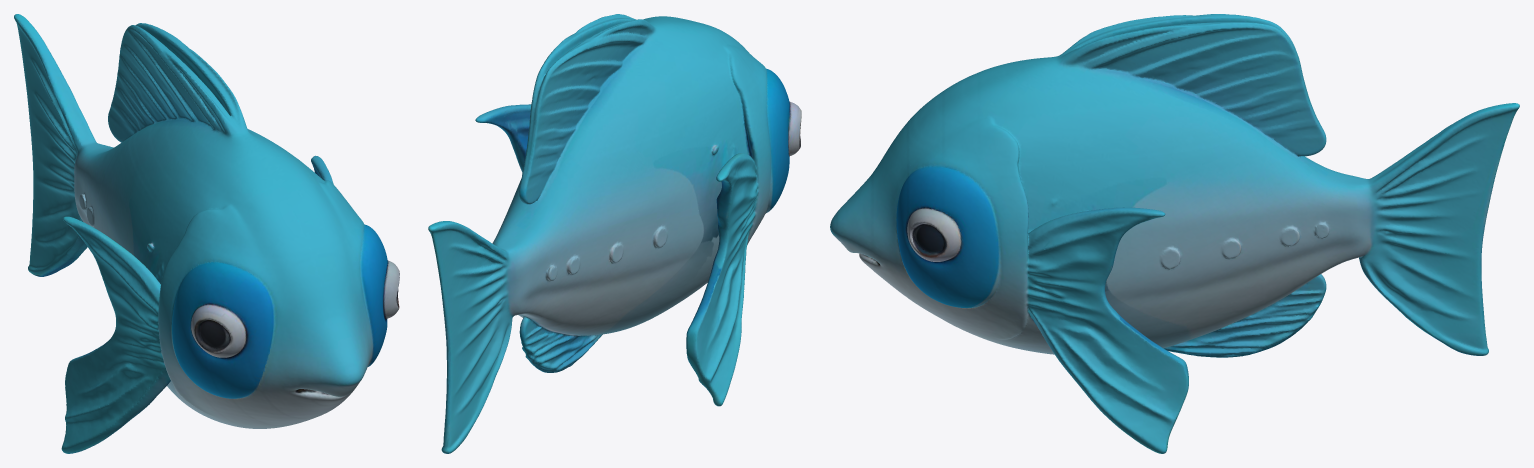
The model's file is tripo_pbr_model_7252dd45-e122-4ce7-a867-1dc120493e9a.glb.
3 renders of one model, left to right at view 1: azimuth 30°, elevation 25°; view 2: azimuth 150°, elevation 25°; view 3: azimuth 270°, elevation 25°, orthographic. The views are drawn at different scales.
Parts seen in each view (by area): view 1: tripo_node_7252dd45-e122-4ce7-a867-1dc120493e9a; view 2: tripo_node_7252dd45-e122-4ce7-a867-1dc120493e9a; view 3: tripo_node_7252dd45-e122-4ce7-a867-1dc120493e9a.
Part boxes in pixels (bbox=[...]): tripo_node_7252dd45-e122-4ce7-a867-1dc120493e9a: bbox=[14, 14, 399, 453]; tripo_node_7252dd45-e122-4ce7-a867-1dc120493e9a: bbox=[428, 14, 801, 453]; tripo_node_7252dd45-e122-4ce7-a867-1dc120493e9a: bbox=[830, 14, 1519, 453].
Size of the model in its own units: 0.439 by 0.5965 by 1.
Materials: 1 (1 with a texture image).
